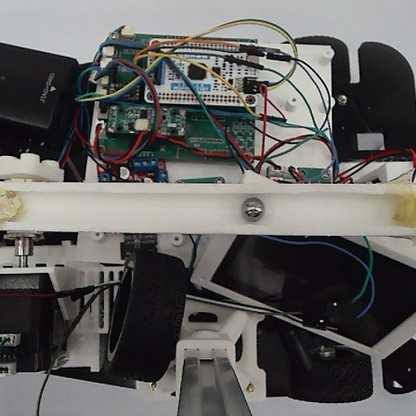ironball: (238, 195, 265, 223)
